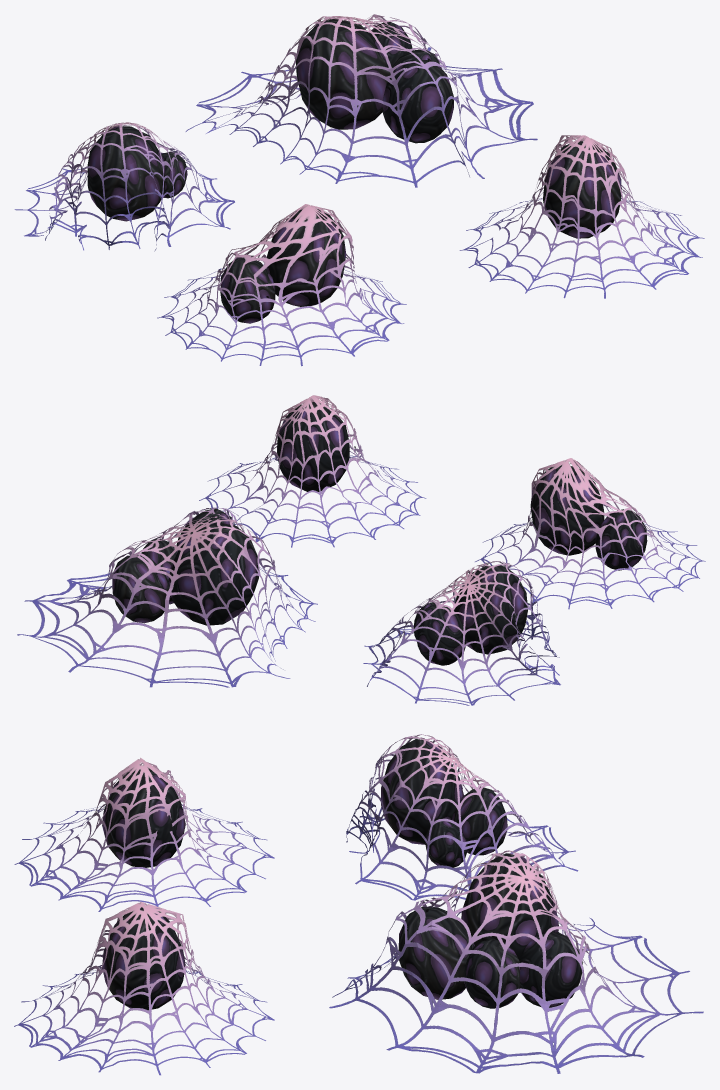
File: Ovo.fbx
3 renders of one model, top to bottom at view 1: azimuth 30°, elevation 25°; view 2: azimuth 150°, elevation 25°; view 3: azimuth 270°, elevation 25°, orthographic. The views are drawn at different scales.
Parts seen in each view (by area): view 1: Ovo_Low.010, Ovo_Low.007, Ovo_Low.002, Ovo_Low.004, Ovo_Low.003, Ovo_Low.006, Ovo_Low.005, Ovo_Low; view 2: Ovo_Low.007, Ovo_Low.010, Ovo_Low.002, Ovo_Low.006, Ovo_Low.004, Ovo_Low.005, Ovo_Low.003, Ovo_Low; view 3: Ovo_Low.007, Ovo_Low.010, Ovo_Low.004, Ovo_Low.006, Ovo_Low.002, Ovo_Low.005, Ovo_Low.003, Ovo_Low.
Part boxes in pixels (<box>): Ovo_Low.010: <box>296,19,453,143</box>; Ovo_Low.007: <box>185,14,537,187</box>; Ovo_Low.002: <box>157,204,406,366</box>; Ovo_Low.004: <box>459,135,704,298</box>; Ovo_Low.003: <box>220,209,346,323</box>; Ovo_Low.006: <box>14,122,234,251</box>; Ovo_Low.005: <box>87,126,187,221</box>; Ovo_Low: <box>543,141,621,238</box>; Ovo_Low.007: <box>17,507,317,687</box>; Ovo_Low.010: <box>112,508,258,625</box>; Ovo_Low.002: <box>475,458,705,609</box>; Ovo_Low.006: <box>363,561,560,705</box>; Ovo_Low.004: <box>199,395,426,547</box>; Ovo_Low.005: <box>413,565,527,665</box>; Ovo_Low.003: <box>530,465,647,570</box>; Ovo_Low: <box>277,402,349,491</box>; Ovo_Low.007: <box>329,850,703,1073</box>; Ovo_Low.010: <box>398,853,582,1008</box>; Ovo_Low.004: <box>14,901,274,1075</box>; Ovo_Low.006: <box>346,734,578,900</box>; Ovo_Low.002: <box>14,757,274,911</box>; Ovo_Low.005: <box>381,739,507,868</box>; Ovo_Low.003: <box>102,768,185,867</box>; Ovo_Low: <box>102,907,185,1010</box>.
Bounding box in the file's own units: 329 × 71.36 × 351.
Materials: 2 (2 with a texture image).
